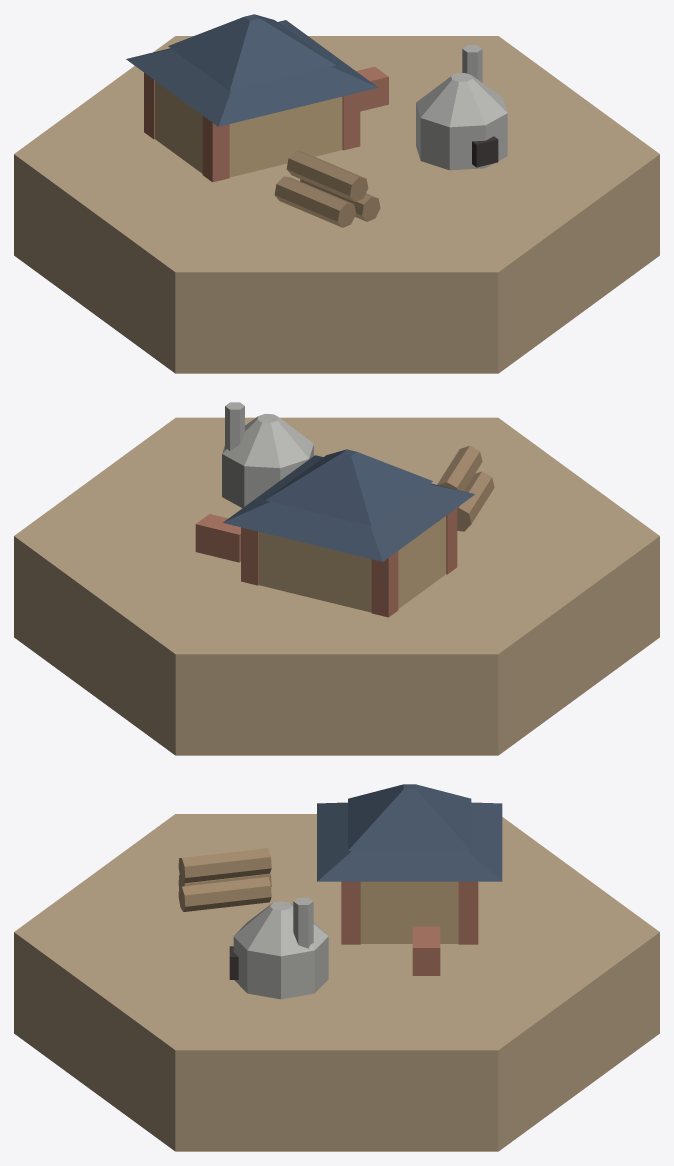
File: workshop.glb
3 views of the same model, one above another, from view 1: azimuth 30°, elevation 25°; view 2: azimuth 150°, elevation 25°; view 3: azimuth 270°, elevation 25° (orthographic).
Parts seen in each view (by area): view 1: base, house, house_eave, house_roof, kiln_top, kiln_body, log0, log2, post_-1_-1, post_1_-1, bench, log1 (+3 smaller); view 2: base, house, house_eave, house_roof, kiln_top, kiln_body, bench, post_-1_1, log2, log0, post_1_1, kiln_chimney (+1 smaller); view 3: base, house_eave, house_roof, house, kiln_body, kiln_top, log2, log1, bench, post_1_1, post_1_-1, kiln_chimney.
Boxes of the visible parts, <box> form: base: <box>14,36,659,373</box>; house: <box>155,81,342,177</box>; house_eave: <box>126,20,378,126</box>; house_roof: <box>168,14,335,91</box>; kiln_top: <box>416,73,507,127</box>; kiln_body: <box>416,103,507,170</box>; log0: <box>274,176,356,227</box>; log2: <box>286,150,368,201</box>; post_-1_-1: <box>202,116,229,182</box>; post_1_-1: <box>342,92,360,150</box>; bench: <box>356,66,388,111</box>; log1: <box>300,179,380,221</box>; base: <box>14,417,659,755</box>; house: <box>258,516,446,612</box>; house_eave: <box>223,455,474,561</box>; house_roof: <box>265,449,432,526</box>; kiln_top: <box>222,414,313,468</box>; kiln_body: <box>222,444,313,507</box>; bench: <box>195,514,240,562</box>; post_-1_1: <box>371,551,398,617</box>; log2: <box>437,445,482,491</box>; log0: <box>457,471,494,531</box>; post_1_1: <box>241,527,258,585</box>; kiln_chimney: <box>225,402,244,450</box>; base: <box>14,814,659,1151</box>; house_eave: <box>317,802,502,881</box>; house_roof: <box>348,784,471,850</box>; house: <box>360,881,458,943</box>; kiln_body: <box>233,936,328,999</box>; kiln_top: <box>233,901,328,956</box>; log2: <box>178,848,271,883</box>; log1: <box>178,877,271,911</box>; bench: <box>412,926,440,975</box>; post_1_1: <box>458,881,478,944</box>; post_1_-1: <box>341,881,360,944</box>; kiln_chimney: <box>293,897,313,948</box>.
Size of the model in its own units: 1 by 0.44 by 1.15.
